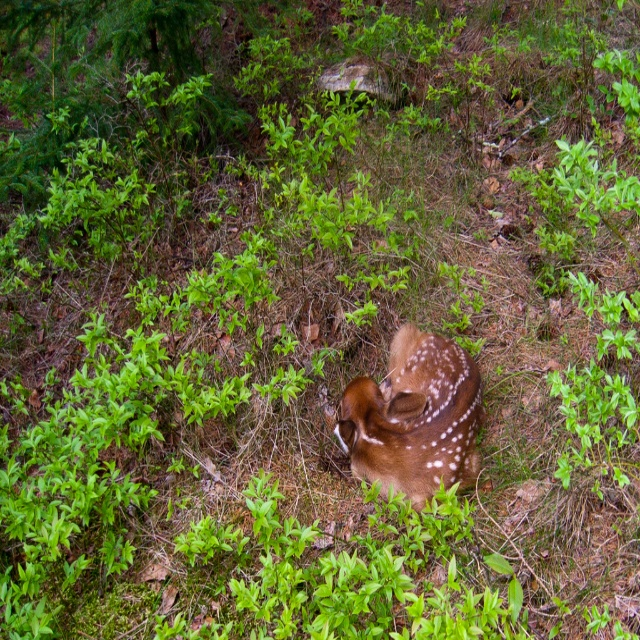Deer: (324, 323, 480, 506)
